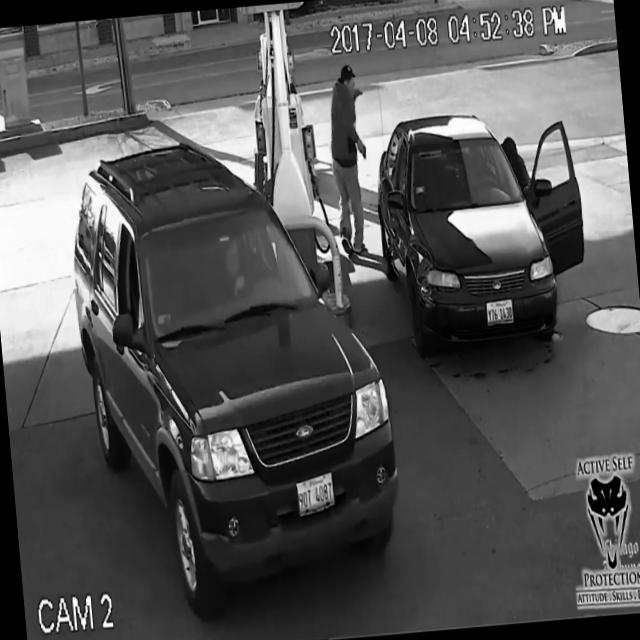gun: (354, 132, 368, 162)
person with a gun: (324, 60, 380, 256)
